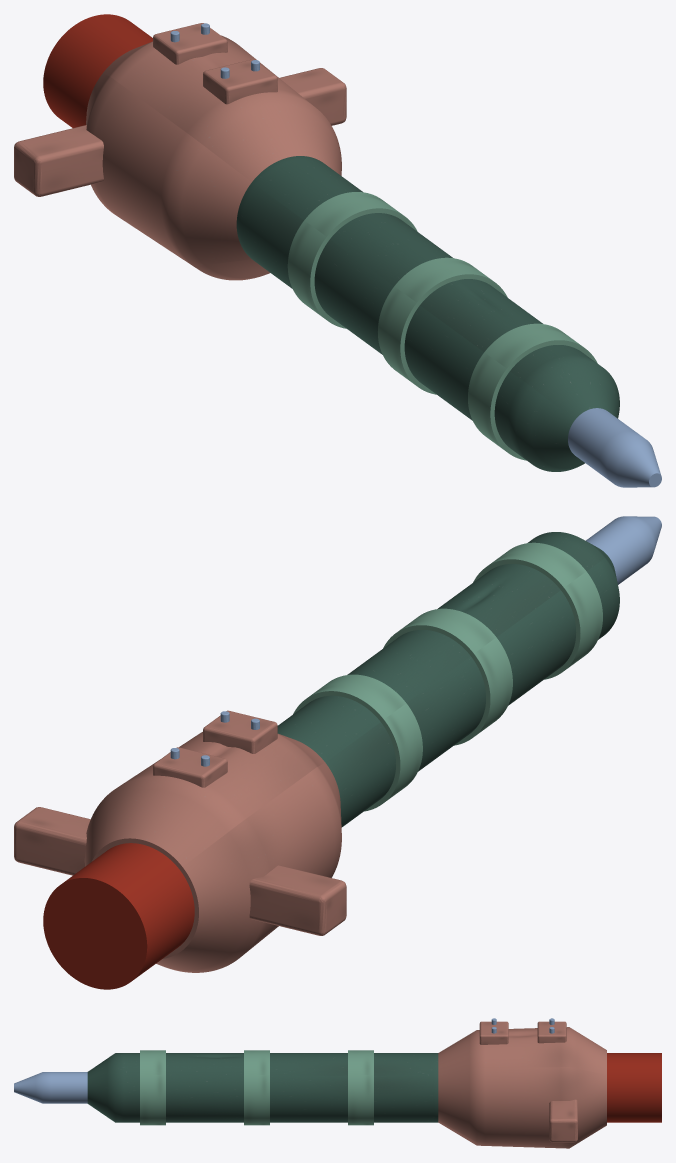
3 renders of one model, top to bottom at view 1: azimuth 30°, elevation 25°; view 2: azimuth 150°, elevation 25°; view 3: azimuth 270°, elevation 25°, orthographic. The views are drawn at different scales.
Parts seen in each view (by area): view 1: Achaean DripFire shaft, Achaean DripFire shoulder, Achaean DripFire rear, Achaean DripFire lateral shoulder 0, Achaean DripFire tip, Achaean DripFire shaft band 0, Achaean DripFire shaft band 1, Achaean DripFire shaft band 2, Achaean DripFire lateral shoulder 1, Achaean DripFire service cover 0, Achaean DripFire service cover 1; view 2: Achaean DripFire shoulder, Achaean DripFire shaft, Achaean DripFire rear, Achaean DripFire lateral shoulder 0, Achaean DripFire shaft band 1, Achaean DripFire shaft band 2, Achaean DripFire shaft band 0, Achaean DripFire lateral shoulder 1, Achaean DripFire tip, Achaean DripFire service cover 0, Achaean DripFire service cover 1; view 3: Achaean DripFire shaft, Achaean DripFire shoulder, Achaean DripFire rear, Achaean DripFire tip, Achaean DripFire shaft band 0, Achaean DripFire shaft band 1, Achaean DripFire shaft band 2, Achaean DripFire lateral shoulder 1, Achaean DripFire service cover 0, Achaean DripFire service cover 1.
Boxes of the visible parts, box(x1,y1,x2,y2) form: Achaean DripFire shaft: box(236, 156, 619, 471); Achaean DripFire shoulder: box(86, 35, 341, 280); Achaean DripFire rear: box(43, 14, 152, 127); Achaean DripFire lateral shoulder 0: box(14, 125, 103, 196); Achaean DripFire tip: box(568, 408, 661, 487); Achaean DripFire shaft band 0: box(468, 323, 597, 460); Achaean DripFire shaft band 1: box(378, 257, 507, 394); Achaean DripFire shaft band 2: box(287, 192, 417, 328); Achaean DripFire lateral shoulder 1: box(279, 68, 346, 125); Achaean DripFire service cover 0: box(203, 59, 277, 104); Achaean DripFire service cover 1: box(153, 23, 227, 64); Achaean DripFire shoulder: box(84, 732, 341, 972); Achaean DripFire shaft: box(277, 532, 619, 827); Achaean DripFire rear: box(43, 843, 194, 989); Achaean DripFire lateral shoulder 0: box(249, 865, 346, 935); Achaean DripFire shaft band 1: box(383, 608, 512, 745); Achaean DripFire shaft band 2: box(293, 674, 422, 811); Achaean DripFire shaft band 0: box(473, 542, 602, 679); Achaean DripFire lateral shoulder 1: box(14, 807, 90, 875); Achaean DripFire tip: box(586, 516, 661, 584); Achaean DripFire service cover 0: box(203, 710, 277, 753); Achaean DripFire service cover 1: box(153, 747, 227, 787); Achaean DripFire shaft: box(87, 1053, 438, 1122); Achaean DripFire shoulder: box(438, 1027, 606, 1148); Achaean DripFire rear: box(607, 1053, 661, 1122); Achaean DripFire tip: box(14, 1072, 87, 1103); Achaean DripFire shaft band 0: box(140, 1050, 165, 1125); Achaean DripFire shaft band 1: box(244, 1050, 269, 1125); Achaean DripFire shaft band 2: box(348, 1050, 373, 1125); Achaean DripFire lateral shoulder 1: box(549, 1099, 577, 1142); Achaean DripFire service cover 0: box(479, 1021, 508, 1044); Achaean DripFire service cover 1: box(537, 1021, 566, 1043).
Size of the model in its own units: 0.72 by 0.455 by 2.24.
5 materials, 3 textured.
